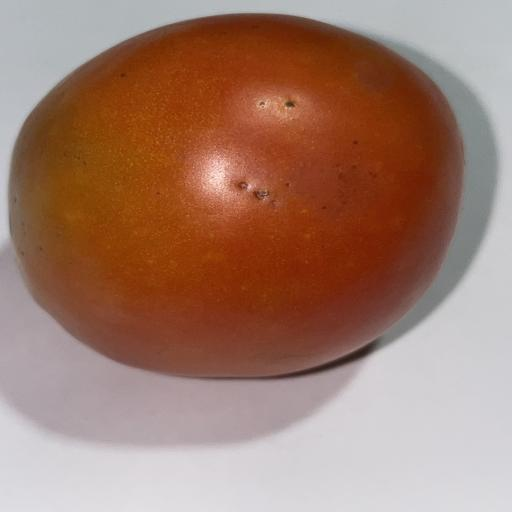ripe: (9, 14, 464, 377)
